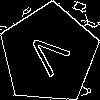V: (23, 29, 78, 83)
